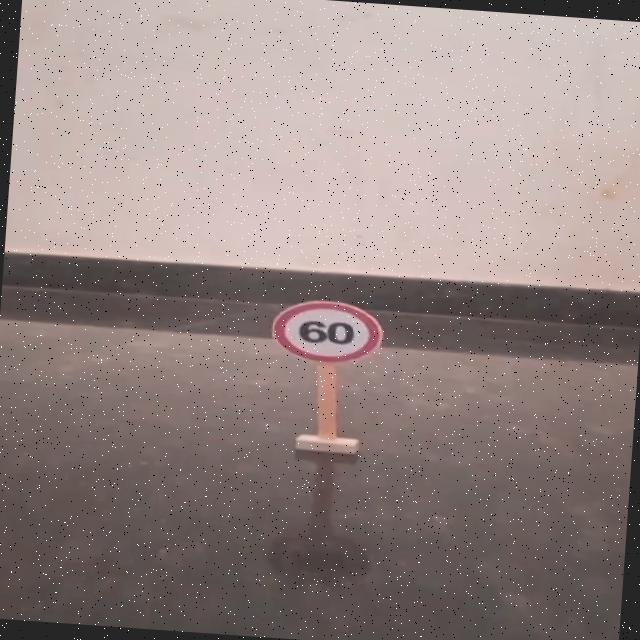Speed60: (267, 296, 387, 368)
